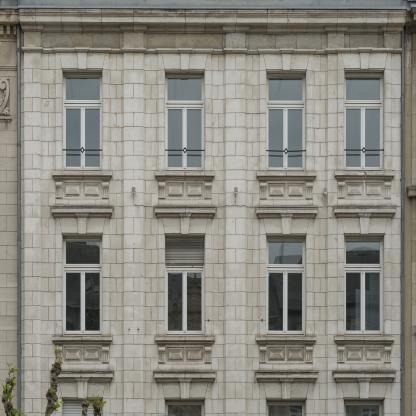Building Outline: (0, 0, 415, 415)
Cornice: (332, 370, 398, 398), (50, 370, 115, 398), (255, 206, 320, 234), (50, 206, 115, 234), (153, 206, 218, 234), (331, 206, 398, 233), (153, 371, 218, 398), (255, 371, 320, 398), (59, 52, 106, 70), (263, 54, 310, 70), (162, 54, 208, 70), (342, 53, 388, 69)
Facade: (0, 0, 415, 415)
Floor: (1, 34, 401, 206), (1, 219, 401, 369)
Floor Slab: (1, 370, 401, 383), (1, 206, 401, 219)
Sill: (333, 170, 394, 200), (154, 170, 215, 200), (52, 170, 112, 200), (256, 170, 316, 200), (333, 336, 394, 364), (154, 336, 215, 364), (256, 336, 317, 364), (52, 336, 112, 364)
Window: (345, 69, 385, 169), (63, 70, 103, 170), (165, 70, 205, 170), (345, 234, 385, 334), (63, 235, 103, 335), (165, 234, 205, 334), (267, 234, 307, 334), (267, 70, 307, 169), (344, 398, 385, 416), (62, 398, 103, 416), (165, 398, 205, 416), (266, 398, 306, 416)
